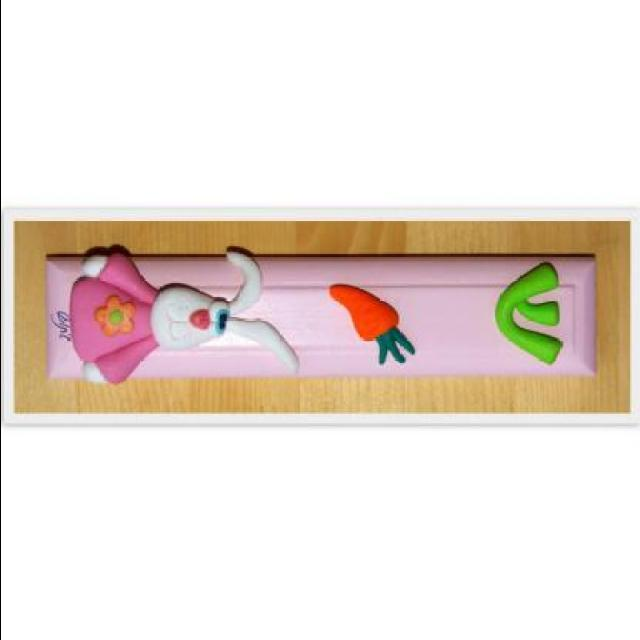Carrot: (326, 284, 418, 366)
